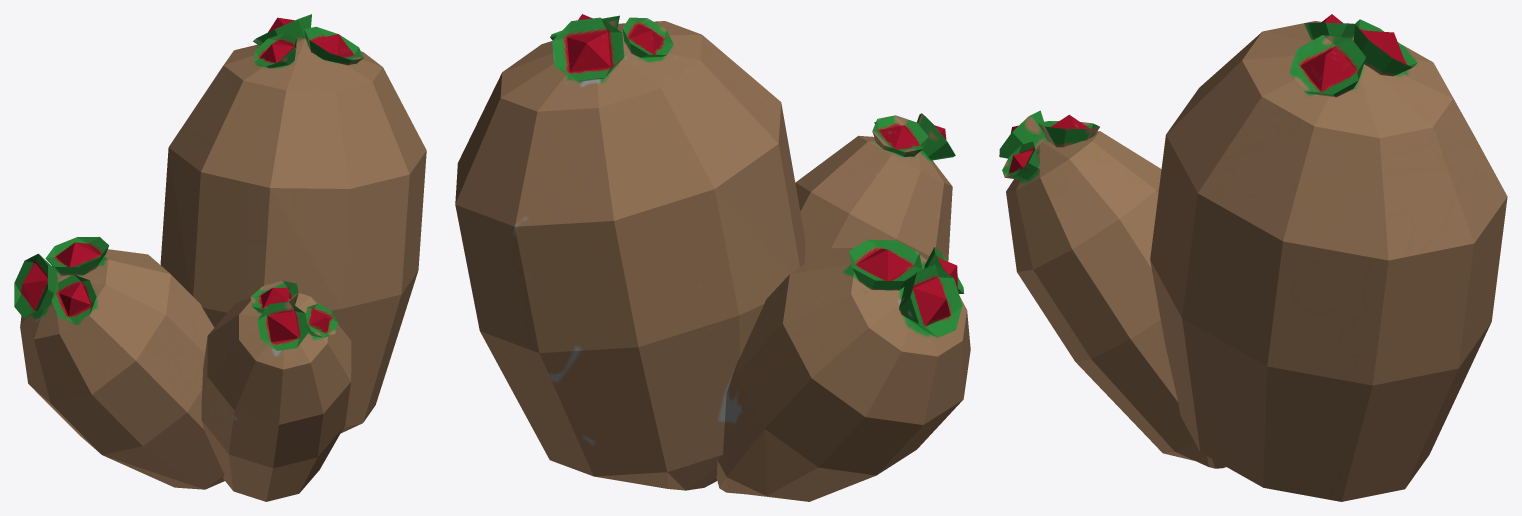
Rendered from Fiore storto deserto2.fbx.
3 views of the same model, side by side, from view 1: azimuth 30°, elevation 25°; view 2: azimuth 150°, elevation 25°; view 3: azimuth 270°, elevation 25° (orthographic). The views are drawn at different scales.
Visible parts, largest first — view 1: node_id5; view 2: node_id5; view 3: node_id5.
Part boxes in pixels (x1=…): node_id5: x1=14, y1=14, x2=426, y2=501; node_id5: x1=455, y1=14, x2=970, y2=501; node_id5: x1=999, y1=14, x2=1507, y2=501.
Bounding box in the file's own units: 0.512 × 0.4927 × 0.4668.
1 material, 1 textured.
